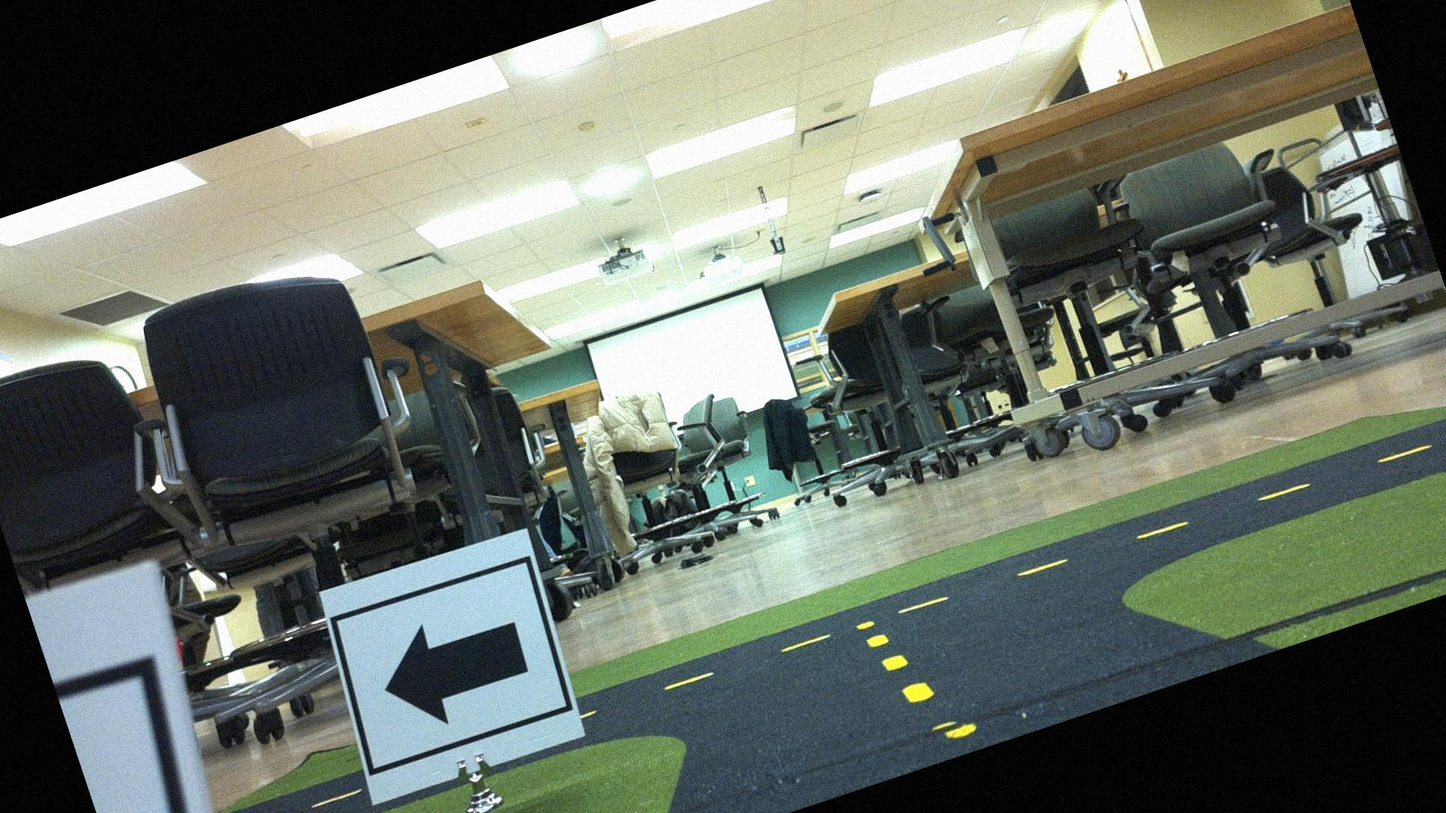turnleft: (316, 531, 588, 808)
yellowline: (858, 604, 938, 717)
